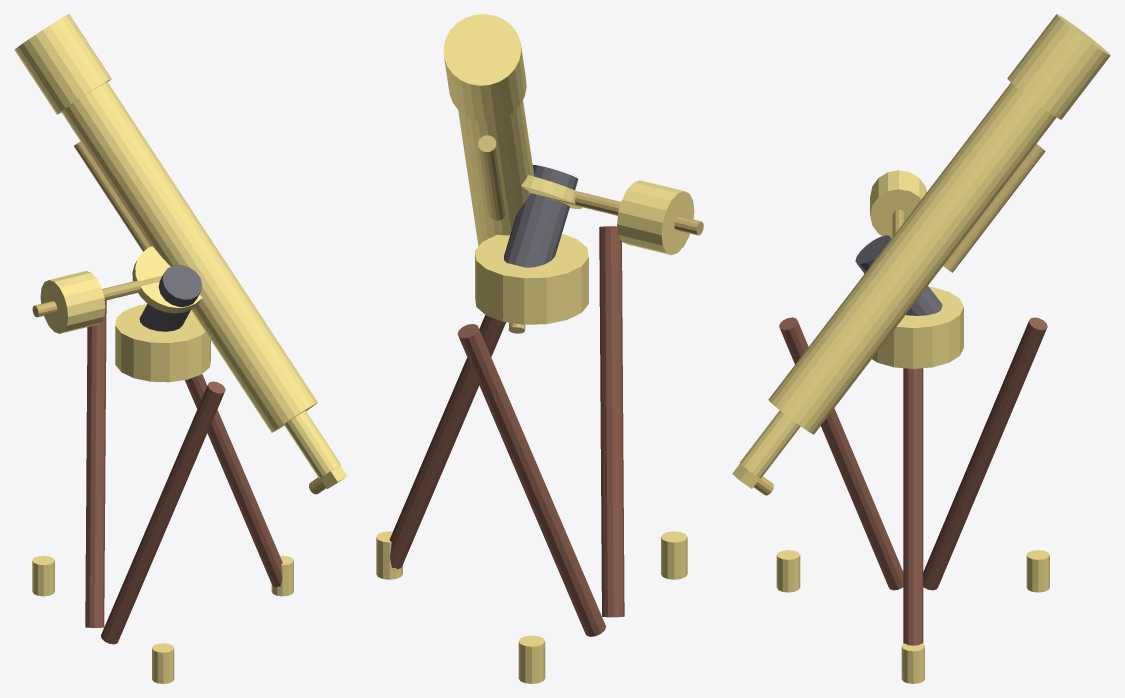
Rendered from celestial_telescope.glb.
3 renders of one model, left to right at view 1: azimuth 30°, elevation 25°; view 2: azimuth 150°, elevation 25°; view 3: azimuth 270°, elevation 25°, orthographic. The views are drawn at different scales.
Parts seen in each view (by area): view 1: MainTelescopeTube, TripodLeg_1, TripodHub, TripodLeg_2, DewShield, TripodLeg_0, CounterWeight, RA_Axis, EyepieceDrawtube, SettingCircle, FinderScope, CounterweightShaft (+3 smaller); view 2: TripodLeg_2, TripodHub, TripodLeg_1, DewShield, MainTelescopeTube, TripodLeg_0, CounterWeight, RA_Axis, FinderScope, TripodFoot_1, TripodFoot_2, CounterweightShaft (+2 smaller); view 3: MainTelescopeTube, TripodLeg_1, DewShield, TripodLeg_0, TripodLeg_2, TripodHub, CounterWeight, FinderScope, EyepieceDrawtube, RA_Axis, TripodFoot_2, TripodFoot_1 (+1 smaller).
Part boxes in pixels (box(x1,y1,x2,y2)): MainTelescopeTube: box(61, 81, 317, 432); TripodLeg_1: box(85, 300, 106, 627); TripodHub: box(115, 304, 210, 382); TripodLeg_2: box(101, 381, 225, 644); DewShield: box(14, 14, 111, 114); TripodLeg_0: box(185, 374, 282, 587); CounterWeight: box(40, 271, 105, 333); RA_Axis: box(139, 265, 202, 331); EyepieceDrawtube: box(284, 411, 340, 478); SettingCircle: box(132, 246, 202, 313); FinderScope: box(74, 141, 149, 251); CounterweightShaft: box(32, 275, 162, 317); TripodLeg_2: box(599, 226, 624, 617); TripodHub: box(475, 234, 588, 324); TripodLeg_1: box(457, 324, 606, 636); DewShield: box(443, 14, 526, 121); MainTelescopeTube: box(458, 100, 533, 245); TripodLeg_0: box(389, 315, 505, 569); CounterWeight: box(617, 180, 694, 255); RA_Axis: box(504, 165, 578, 267); FinderScope: box(478, 135, 506, 220); TripodFoot_1: box(518, 635, 545, 683); TripodFoot_2: box(661, 531, 687, 579); CounterweightShaft: box(543, 191, 703, 235); MainTelescopeTube: box(768, 83, 1056, 434); TripodLeg_1: box(923, 317, 1047, 590); DewShield: box(1007, 14, 1110, 119); TripodLeg_0: box(903, 368, 923, 645); TripodLeg_2: box(779, 317, 903, 590); TripodHub: box(872, 287, 963, 368); CounterWeight: box(870, 170, 926, 237); FinderScope: box(943, 144, 1045, 272); EyepieceDrawtube: box(739, 410, 800, 478); RA_Axis: box(855, 235, 942, 315); TripodFoot_2: box(776, 550, 800, 592); TripodFoot_1: box(1026, 550, 1049, 592).
Size of the model in its own units: 1.76 by 3.58 by 2.1.
